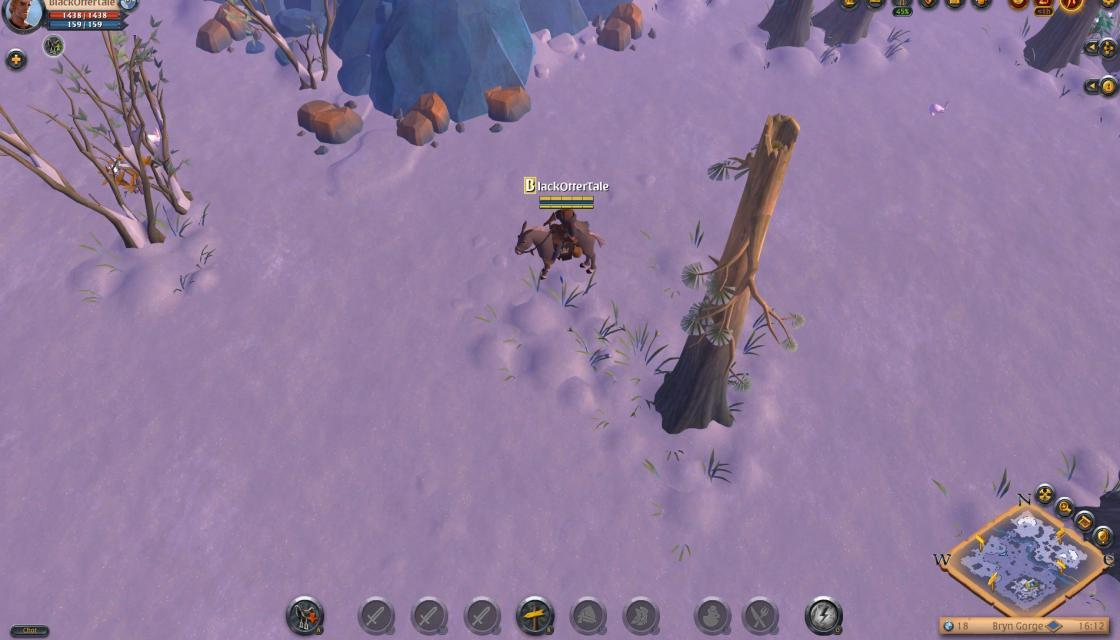limestone: (192, 1, 254, 54), (296, 97, 363, 143), (397, 91, 452, 146), (592, 1, 646, 52), (479, 82, 535, 124)
